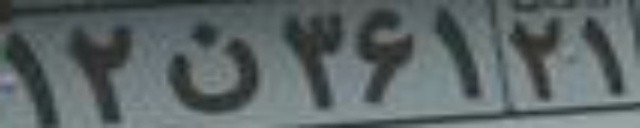1: (4, 31, 60, 124), (430, 5, 479, 98), (577, 19, 626, 95)
2: (63, 24, 133, 124), (506, 16, 564, 101)
3: (284, 14, 342, 108)
6: (357, 9, 414, 104)
non: (163, 22, 263, 113)
